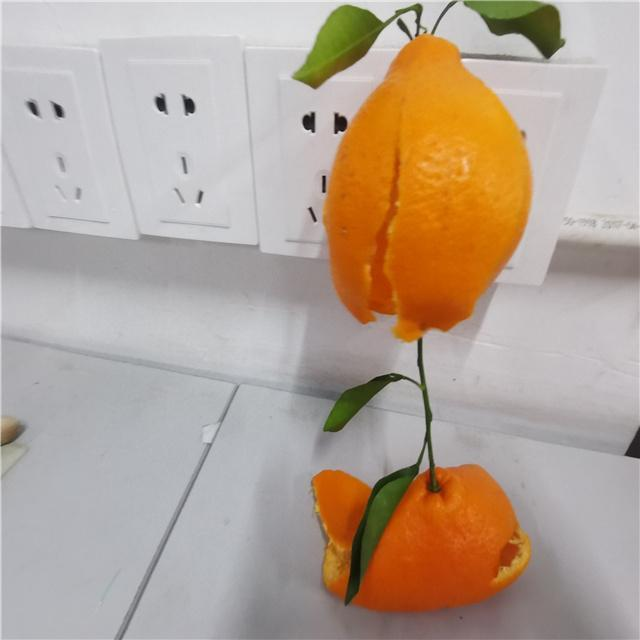orange-peel: (321, 32, 533, 342), (309, 461, 531, 612)
